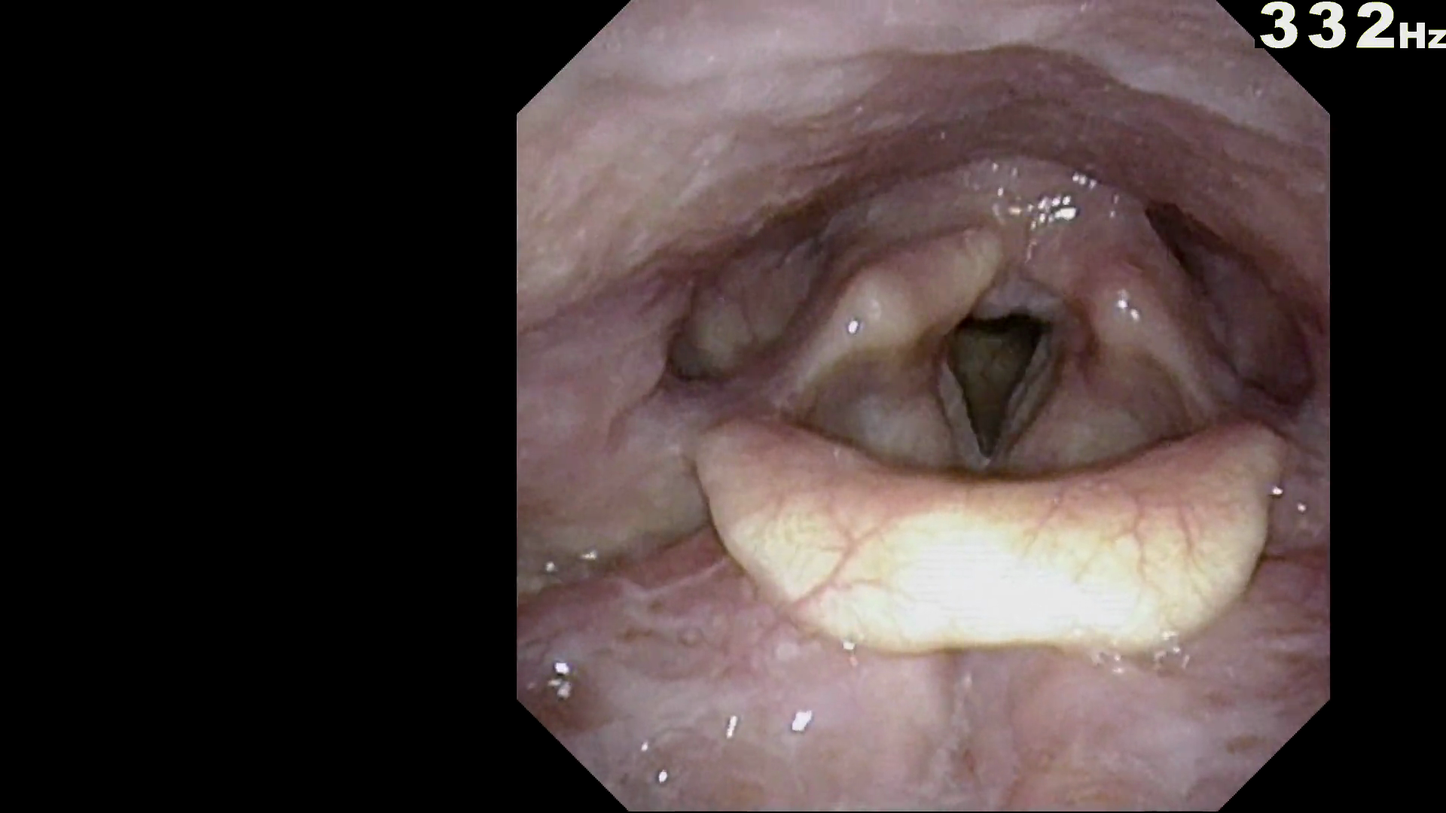epiglottis: (682, 406, 1292, 665)
trachea: (905, 283, 1085, 493)
